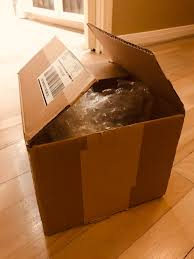damaged package: (29, 23, 184, 147)
